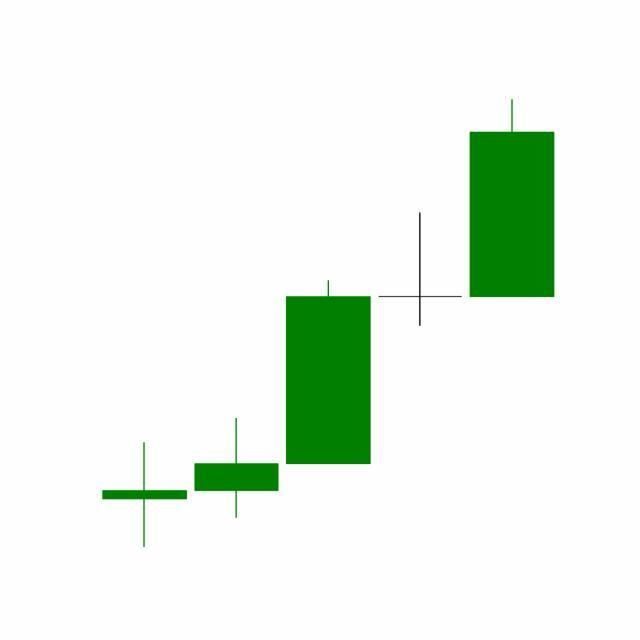Spinning Top: (374, 211, 468, 328)
